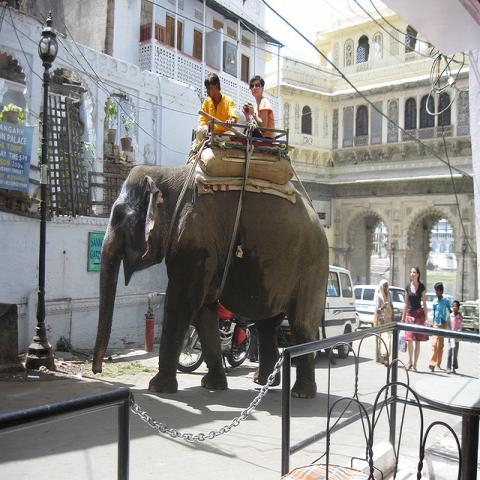car: (312, 264, 363, 363), (354, 284, 406, 330), (425, 293, 453, 329)
motorcycle: (177, 302, 256, 374)
